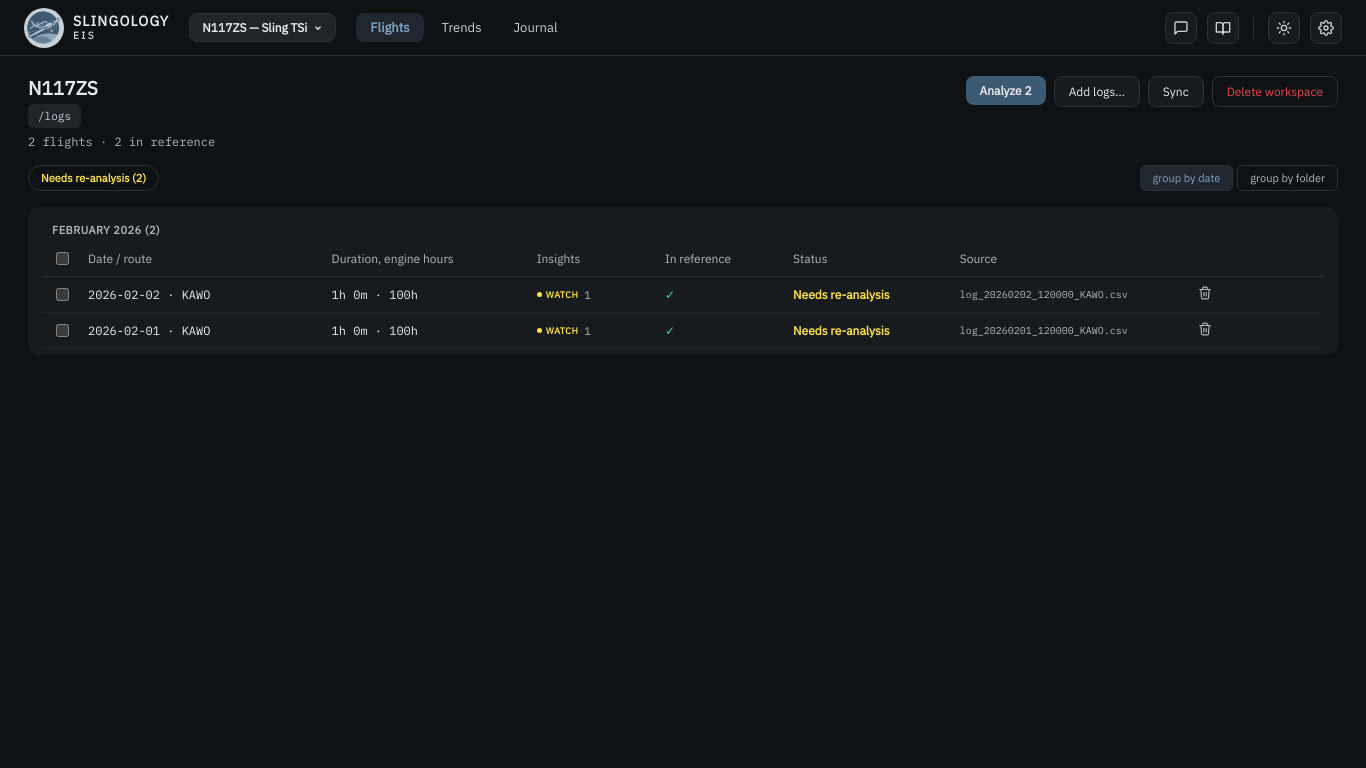
Test: Flights — adding logs and Sync consent › names only the kinds of work found
The width and height of the screenshot is (1366, 768).
Click the button "Sync" at (1176, 92), box left=1148, top=76, right=1204, bottom=107
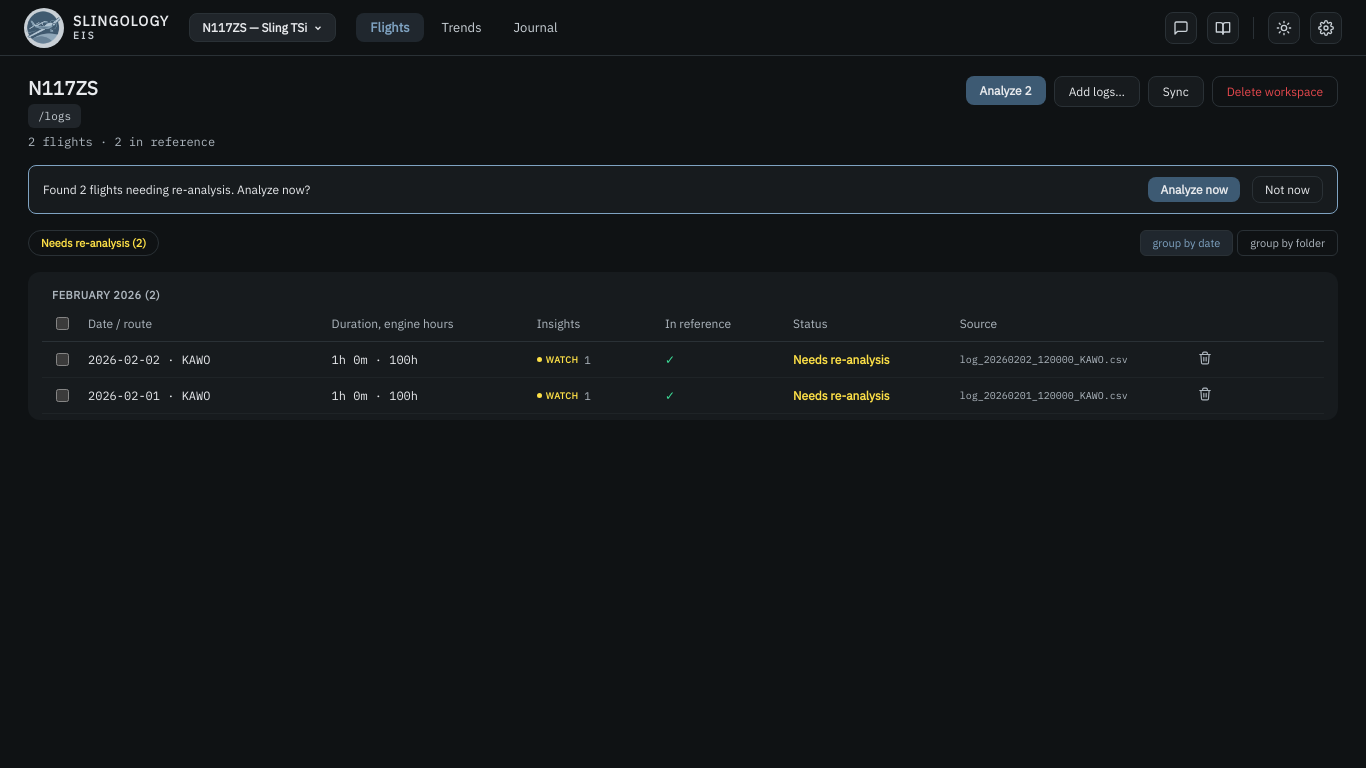
Expected: the dialog "Analyze now?" shows "Found 2 flights needing re-analysis. Analyze now?", left=43, top=182, right=310, bottom=197
